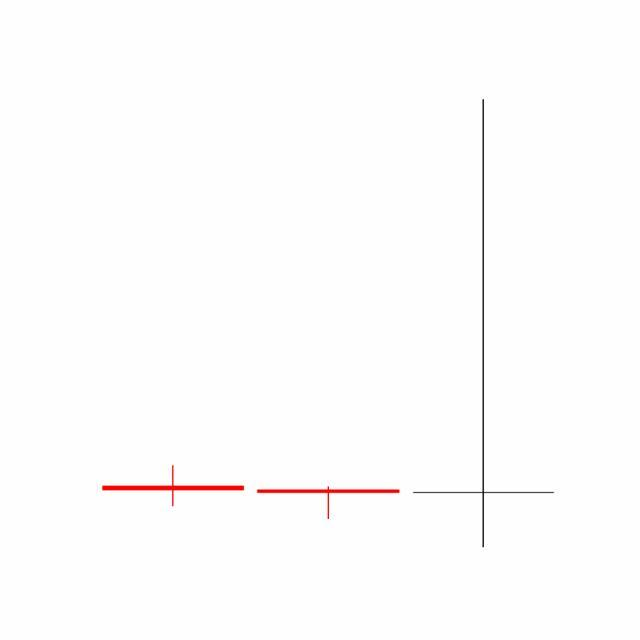Dragonfly Doji: (250, 486, 407, 520)
